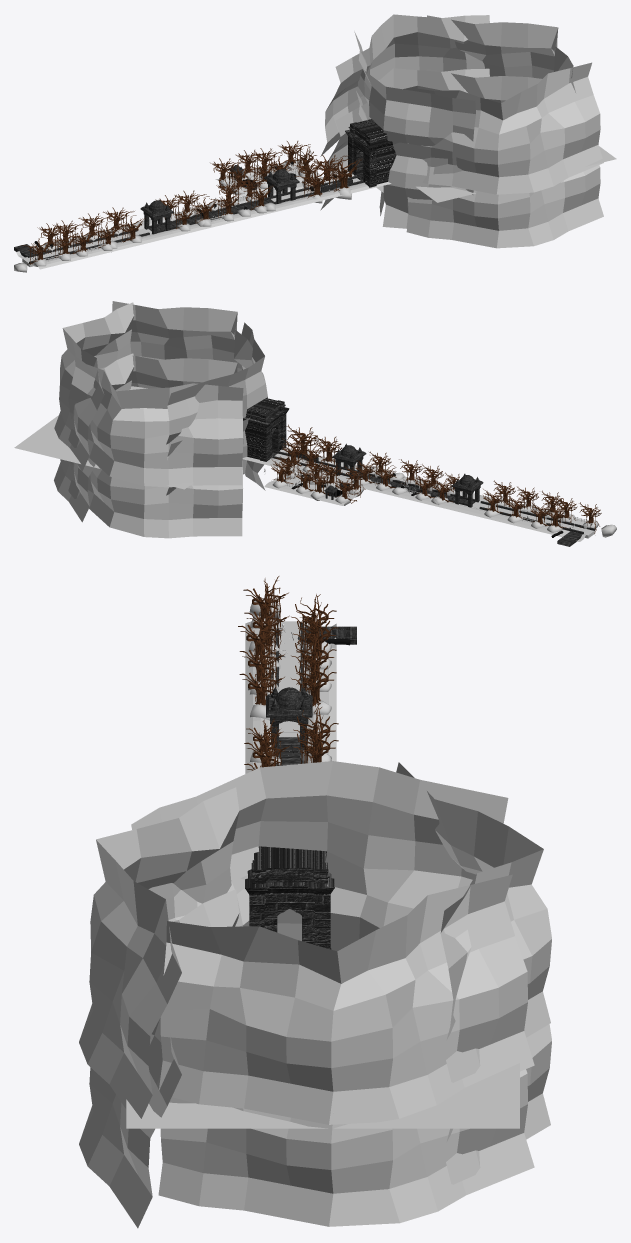
Rendered from TILE, WELL, LANTERN.fbx.
3 renders of one model, top to bottom at view 1: azimuth 30°, elevation 25°; view 2: azimuth 150°, elevation 25°; view 3: azimuth 270°, elevation 25°, orthographic. The views are drawn at different scales.
Visible parts, largest first — view 1: Plane.051, Plane.037, Plane.052, Plane.050, Plane.053, Plane.033, Plane.048, Cube.001, Plane.049, Cylinder.130, Plane.032, Cylinder.044 (+7 smaller); view 2: Plane.052, Plane.048, Plane.051, Plane.053, Plane.050, Plane.037, Cube.001, Plane.049, Plane.032, Plane.033, Cylinder.130, Cylinder.044 (+7 smaller); view 3: Plane.053, Plane.050, Plane.049, Plane.051, Plane.052, Plane.037, Plane.032, Cube.001, Plane.048, Cylinder.044, Cube.075, Plane.007.
Part boxes in pixels (box(x1,y1,x2,y2)): Plane.051: box(408, 62, 603, 194); Plane.037: box(406, 165, 603, 248); Plane.052: box(320, 14, 489, 156); Plane.050: box(354, 31, 475, 146); Plane.053: box(427, 15, 575, 92); Plane.033: box(356, 91, 473, 228); Plane.048: box(320, 68, 489, 210); Cube.001: box(345, 119, 396, 187); Plane.049: box(427, 69, 541, 102); Cylinder.130: box(264, 168, 299, 203); Plane.032: box(416, 146, 616, 202); Cylinder.044: box(140, 199, 173, 234); Plane.052: box(68, 356, 243, 487); Plane.048: box(68, 439, 243, 538); Plane.051: box(112, 301, 252, 371); Plane.053: box(54, 302, 134, 471); Plane.050: box(166, 322, 267, 444); Plane.037: box(131, 355, 237, 388); Cube.001: box(243, 398, 289, 461); Plane.049: box(54, 353, 134, 522); Plane.032: box(14, 386, 193, 489); Plane.033: box(166, 417, 265, 495); Cylinder.130: box(332, 443, 366, 478); Cylinder.044: box(452, 473, 483, 507); Plane.053: box(158, 874, 534, 1124); Plane.050: box(131, 761, 508, 951); Plane.049: box(158, 1069, 534, 1226); Plane.051: box(79, 787, 239, 1118); Plane.052: box(396, 762, 551, 1082); Plane.037: box(79, 889, 239, 1228); Plane.032: box(126, 1063, 519, 1128); Cube.001: box(245, 846, 334, 949); Plane.048: box(446, 1024, 551, 1184); Cylinder.044: box(266, 687, 312, 750); Cube.075: box(278, 621, 304, 732); Plane.007: box(245, 695, 336, 736).
Bounding box in the file's own units: 39749 × 10353 × 15148.
